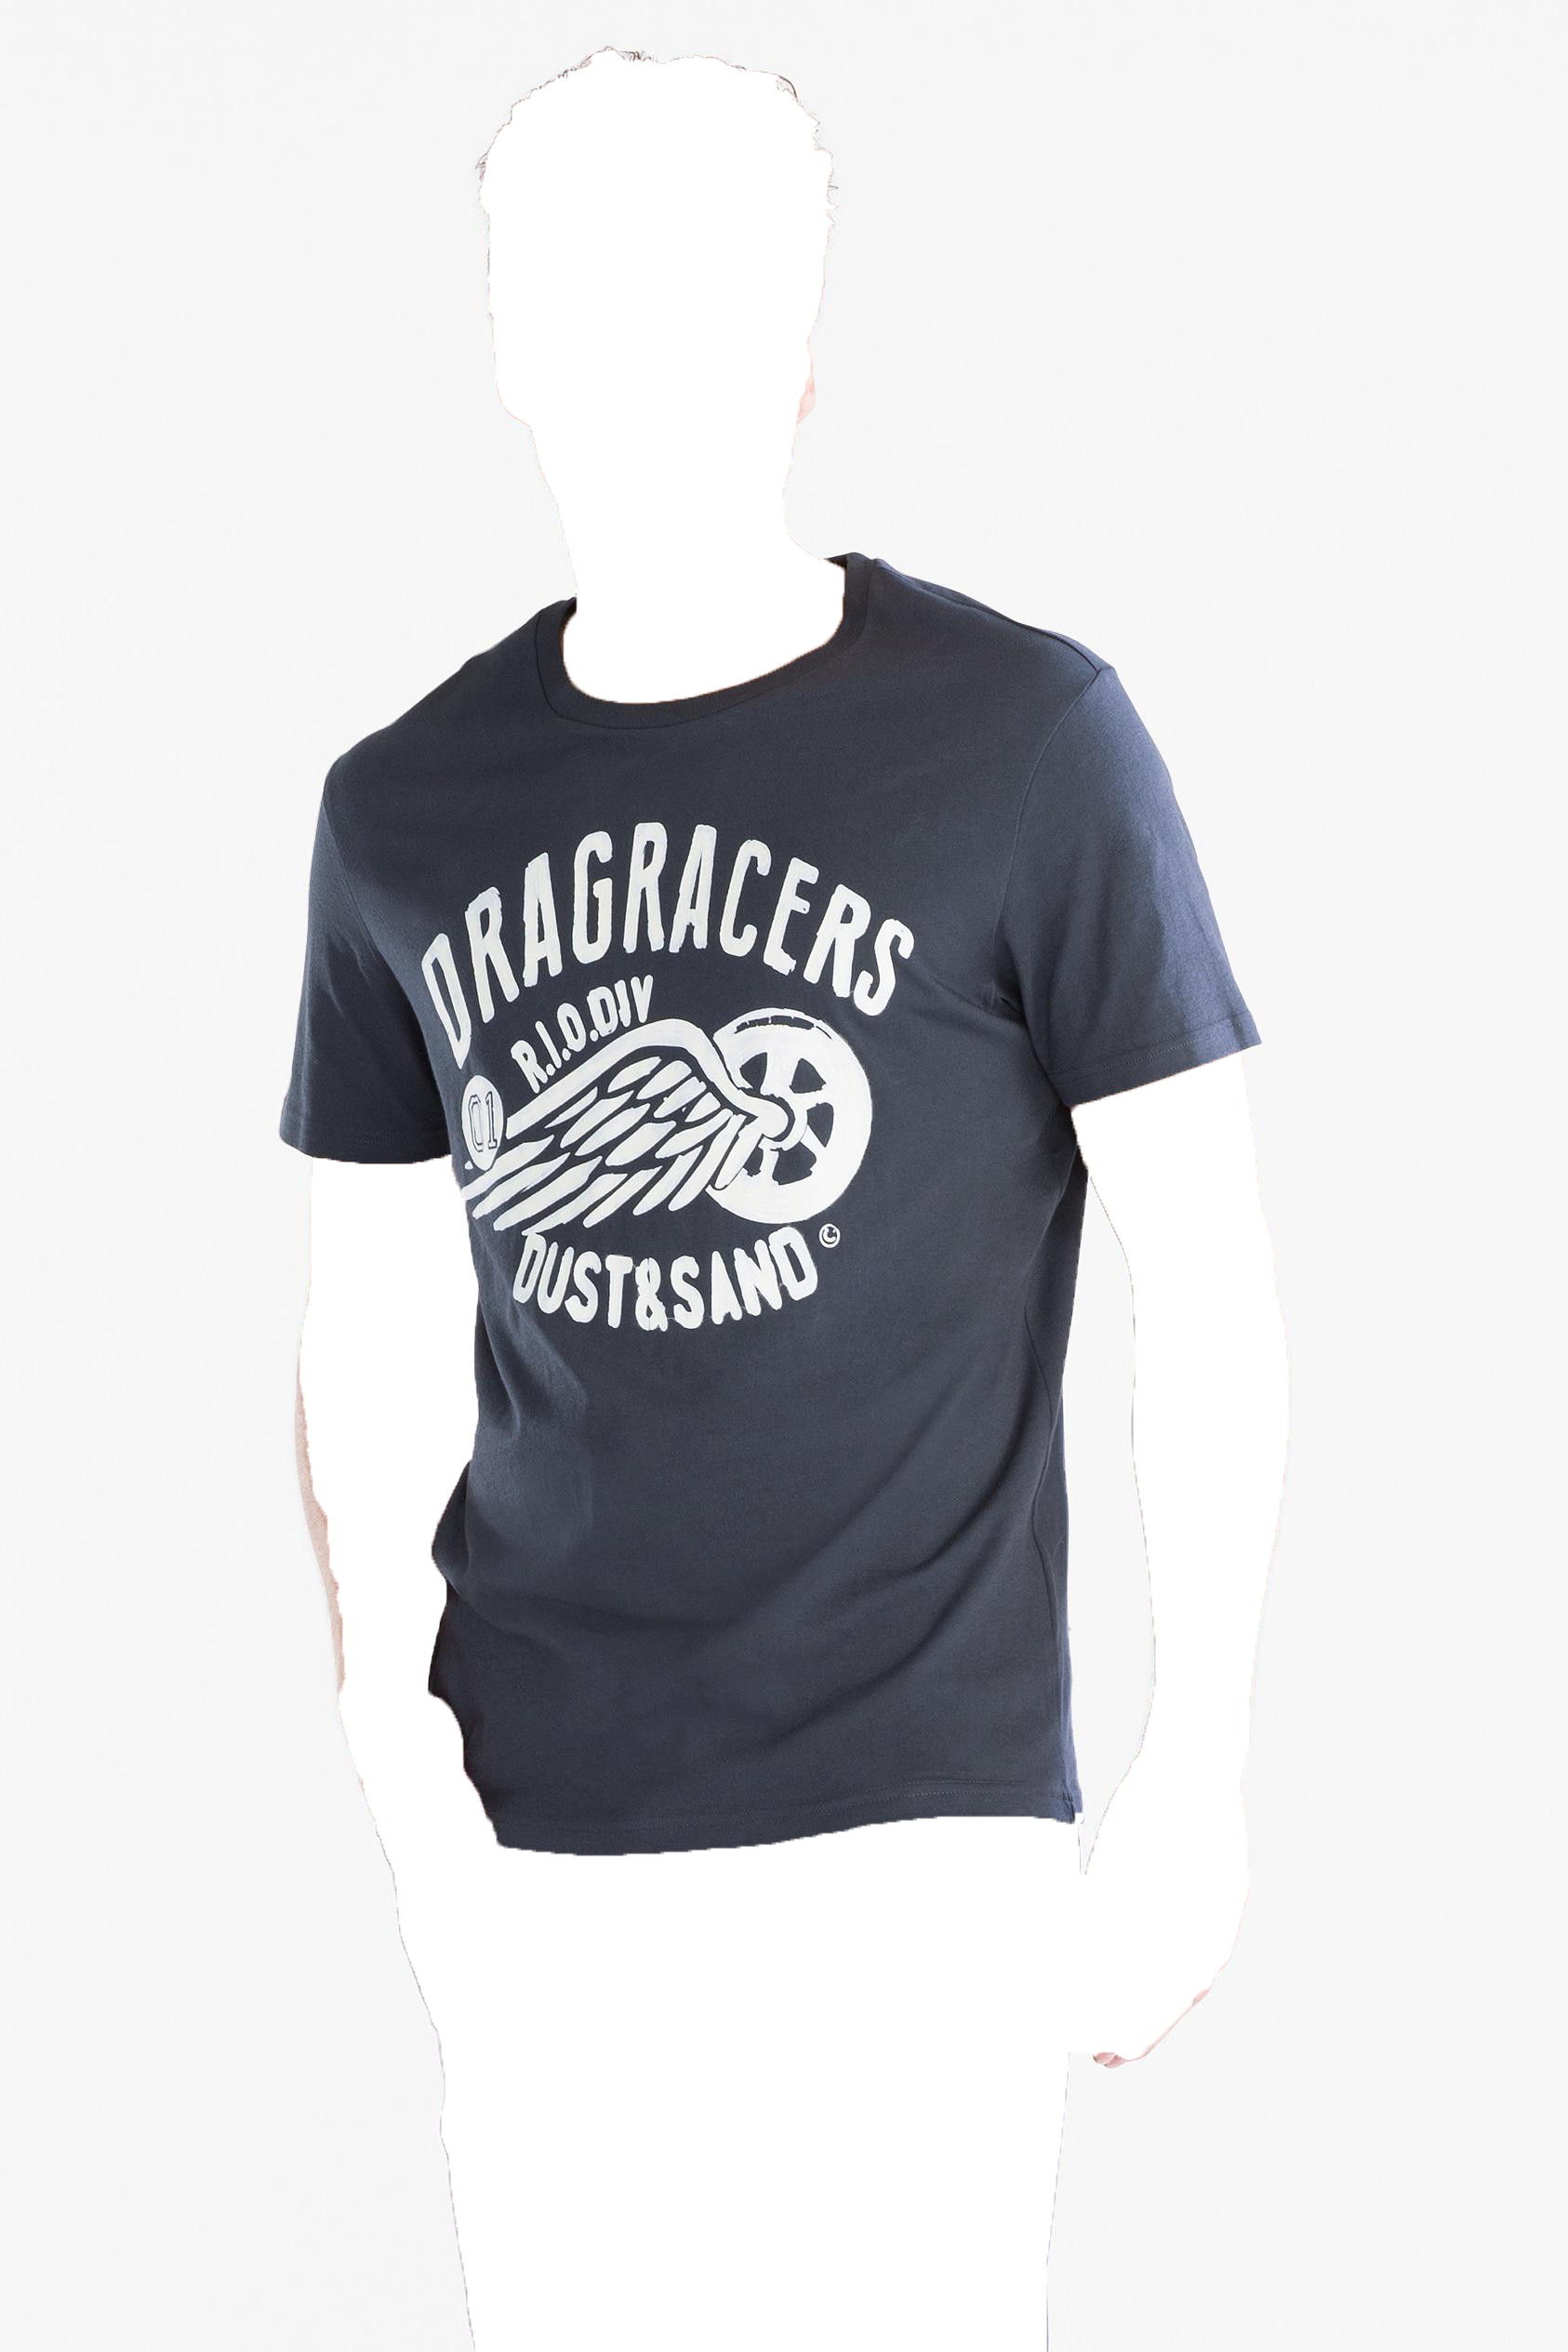teeshirt: (242, 535, 1272, 1895)
